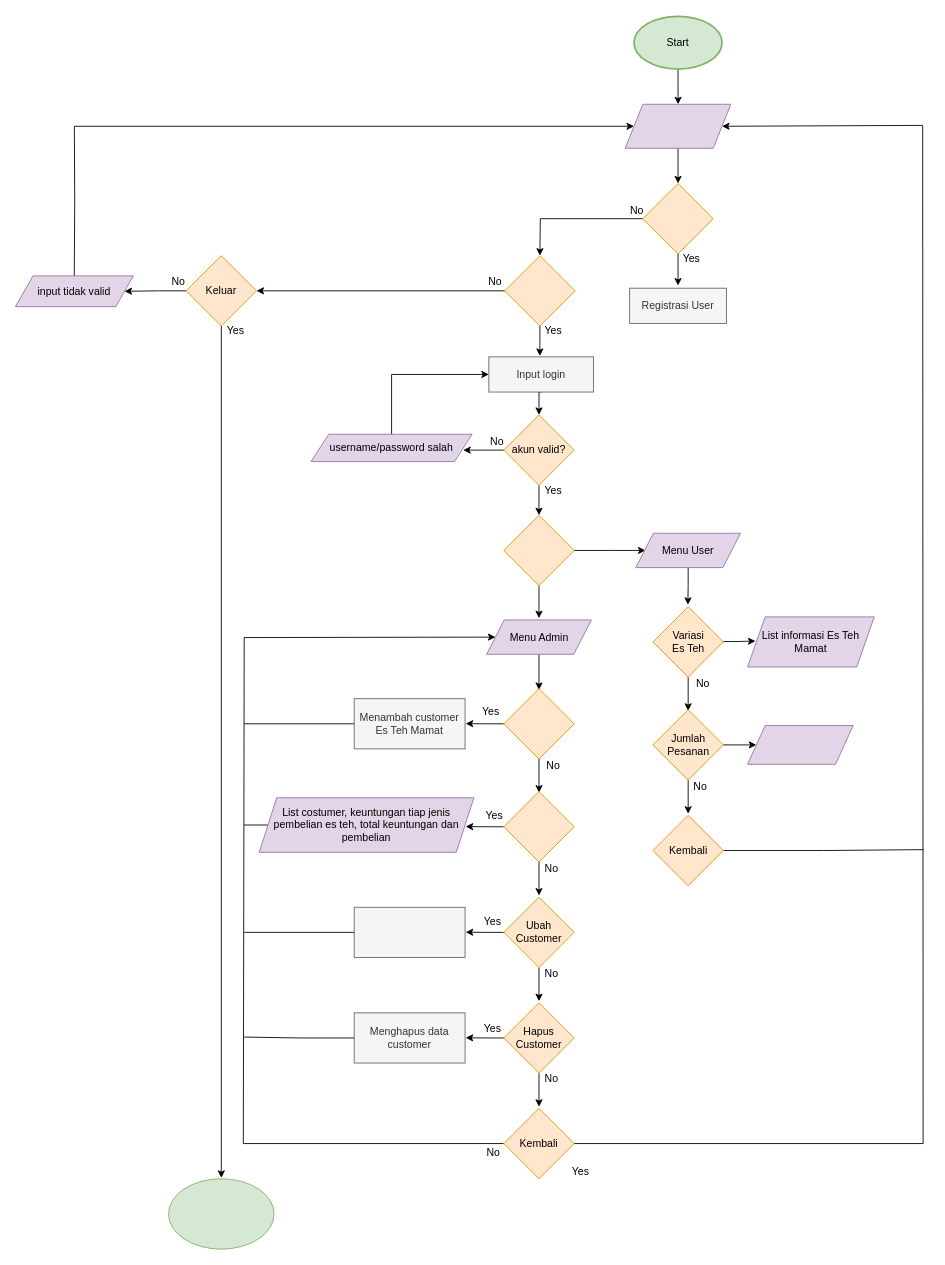
The diagram is 945 pixels wide and 1265 high, and some of its shapes have lost their labels. Each missing label, with the centre of its shape:
"admin" goes at [538,550].
"End" goes at [221,1213].
"Login" goes at [539,290].
"Mengubah data customer" goes at [409,931].
"Menu Utama" goes at [677,125].
"Register" goes at [677,218].
"Tambah Customer" goes at [538,723].
"Tampilkan Customer" goes at [538,826].
"Total pembeli" goes at [800,744].
